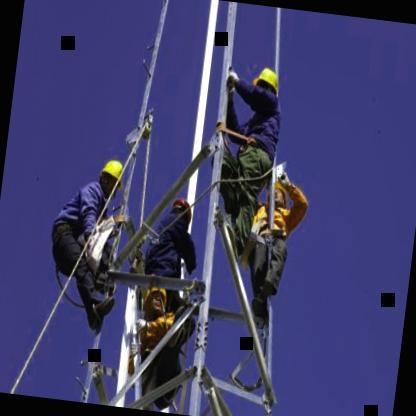helmet: (250, 63, 279, 107), (96, 154, 125, 197), (166, 195, 196, 229), (264, 176, 292, 212), (141, 281, 168, 318)
